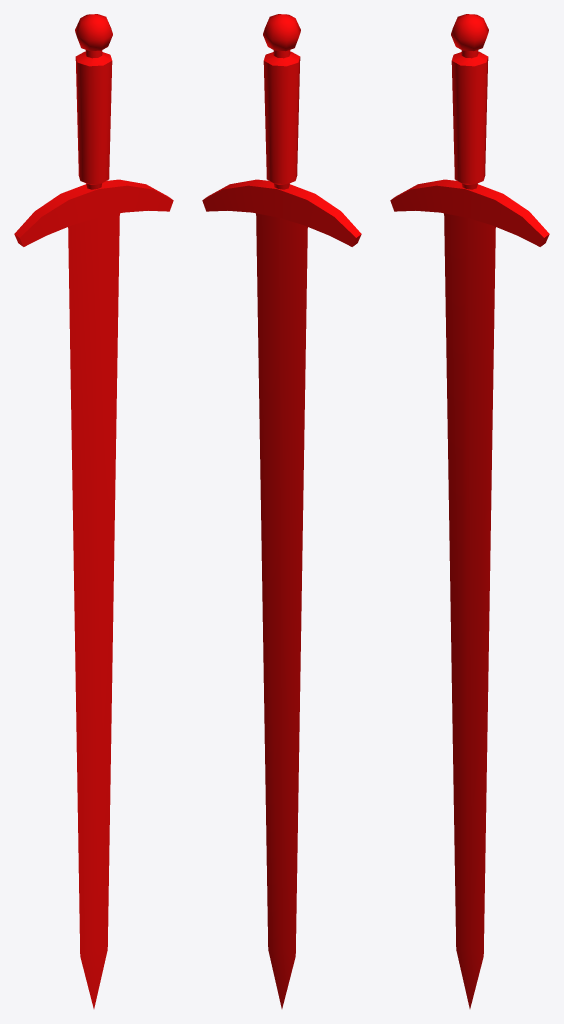
Rendered from Sword01.FBX.
3 renders of one model, left to right at view 1: azimuth 30°, elevation 25°; view 2: azimuth 150°, elevation 25°; view 3: azimuth 330°, elevation 25°, orthographic.
Parts seen in each view (by area): view 1: Sword01; view 2: Sword01; view 3: Sword01.
Boxes of the visible parts, x1,y1,x2,y2 form: Sword01: (14,14,173,1008); Sword01: (202,14,361,1008); Sword01: (390,14,549,1008).
Size of the model in its own units: 5.53 by 1.24 by 34.17.
